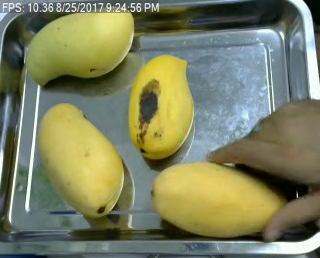Mango: (33, 104, 125, 220), (152, 161, 292, 236), (25, 7, 134, 89), (125, 55, 193, 158)
